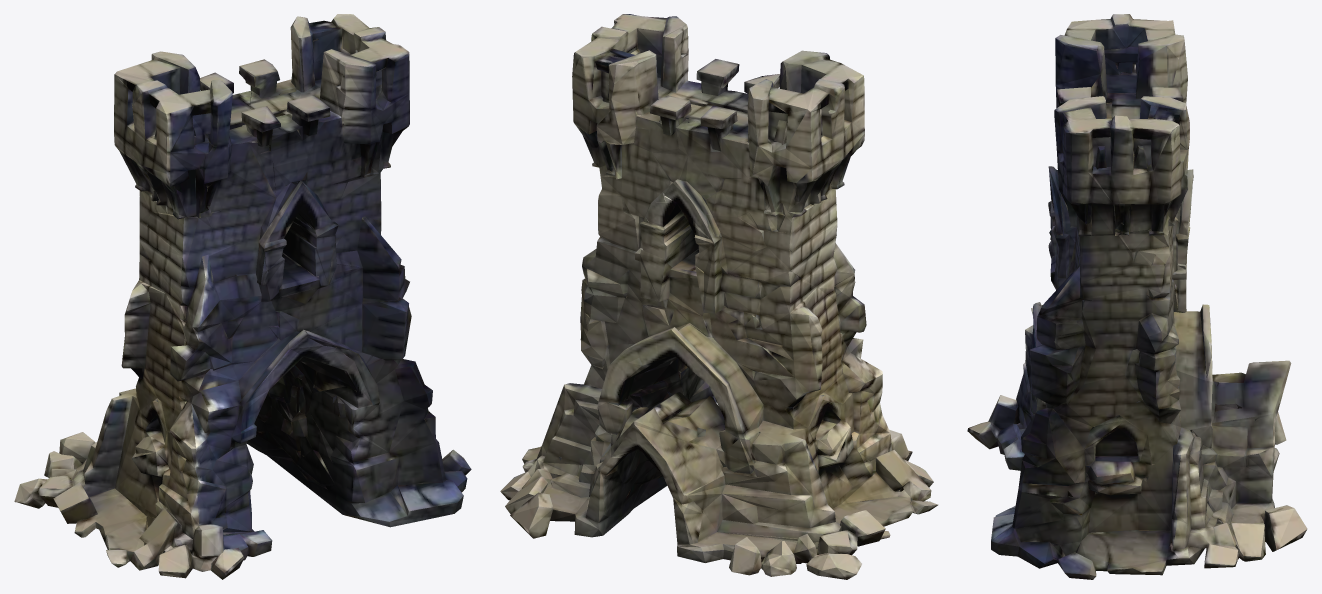
File: war_castle_wall_01.glb
The picture shows the model from 3 angles, left to right: view 1: azimuth 30°, elevation 25°; view 2: azimuth 150°, elevation 25°; view 3: azimuth 270°, elevation 25°; orthographic projection. The views are drawn at different scales.
Parts seen in each view (by area): view 1: geometry_0; view 2: geometry_0; view 3: geometry_0.
Boxes of the visible parts, <box> form: geometry_0: <box>14,14,471,579</box>; geometry_0: <box>500,14,938,579</box>; geometry_0: <box>967,14,1307,579</box>.
Size of the model in its own units: 0.8956 by 0.9966 by 0.7236.
1 material, 1 textured.
